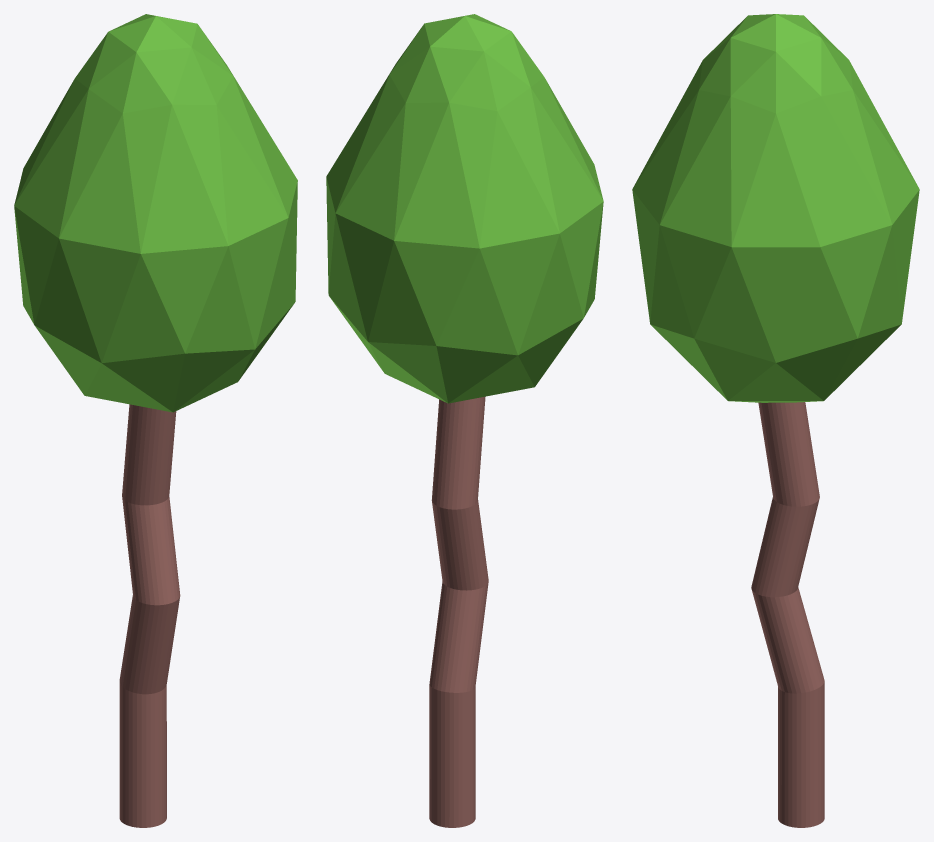
File: tree-type-B.fbx
3 renders of one model, left to right at view 1: azimuth 30°, elevation 25°; view 2: azimuth 150°, elevation 25°; view 3: azimuth 270°, elevation 25°, orthographic. The views are drawn at different scales.
Visible parts, largest first — view 1: 1.2 tree-type-B; view 2: 1.2 tree-type-B; view 3: 1.2 tree-type-B.
Part boxes in pixels (x1,y1,x2,y2): 1.2 tree-type-B: [14, 14, 297, 827]; 1.2 tree-type-B: [326, 14, 603, 827]; 1.2 tree-type-B: [632, 14, 919, 827].
Size of the model in its own units: 1.31 by 4.2 by 1.36.
